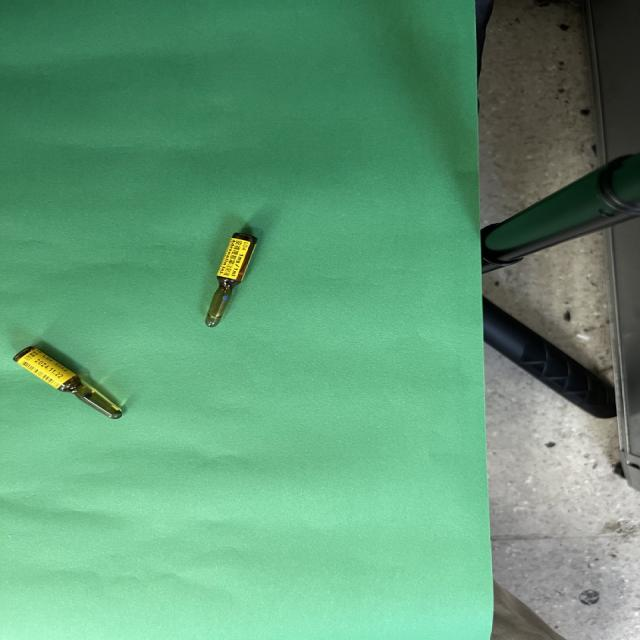Ampoules: (14, 346, 123, 419), (206, 233, 257, 327)
